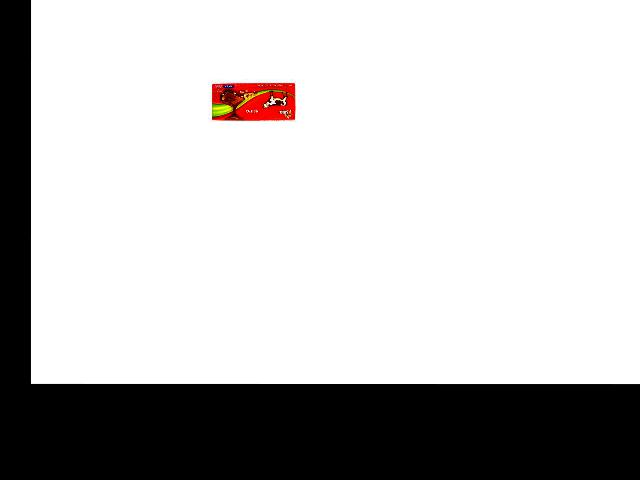chocolate: (210, 75, 300, 123)
